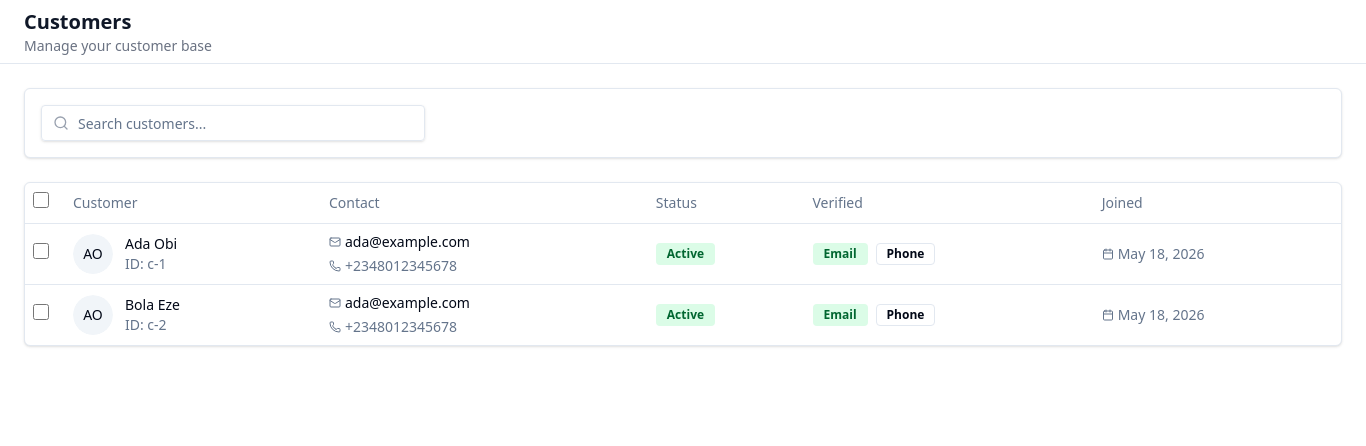
Test: CustomersPage bulk delete › select-all picks every row on the page
Expected: the row with test id "customers-row-c-1" is shown, [25, 223, 1341, 284]
Click the checkbox with test id "customers-select-all" at (41, 200), box [33, 192, 49, 208]
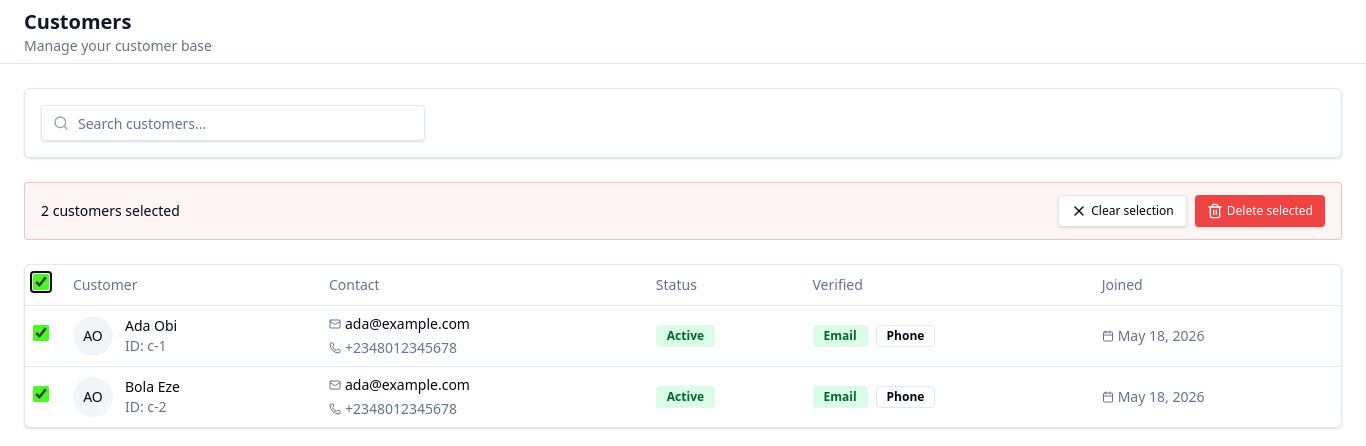
Expected: the element with test id "bulk-delete-bar" shows "2 customers selected", [24, 182, 1342, 240]
